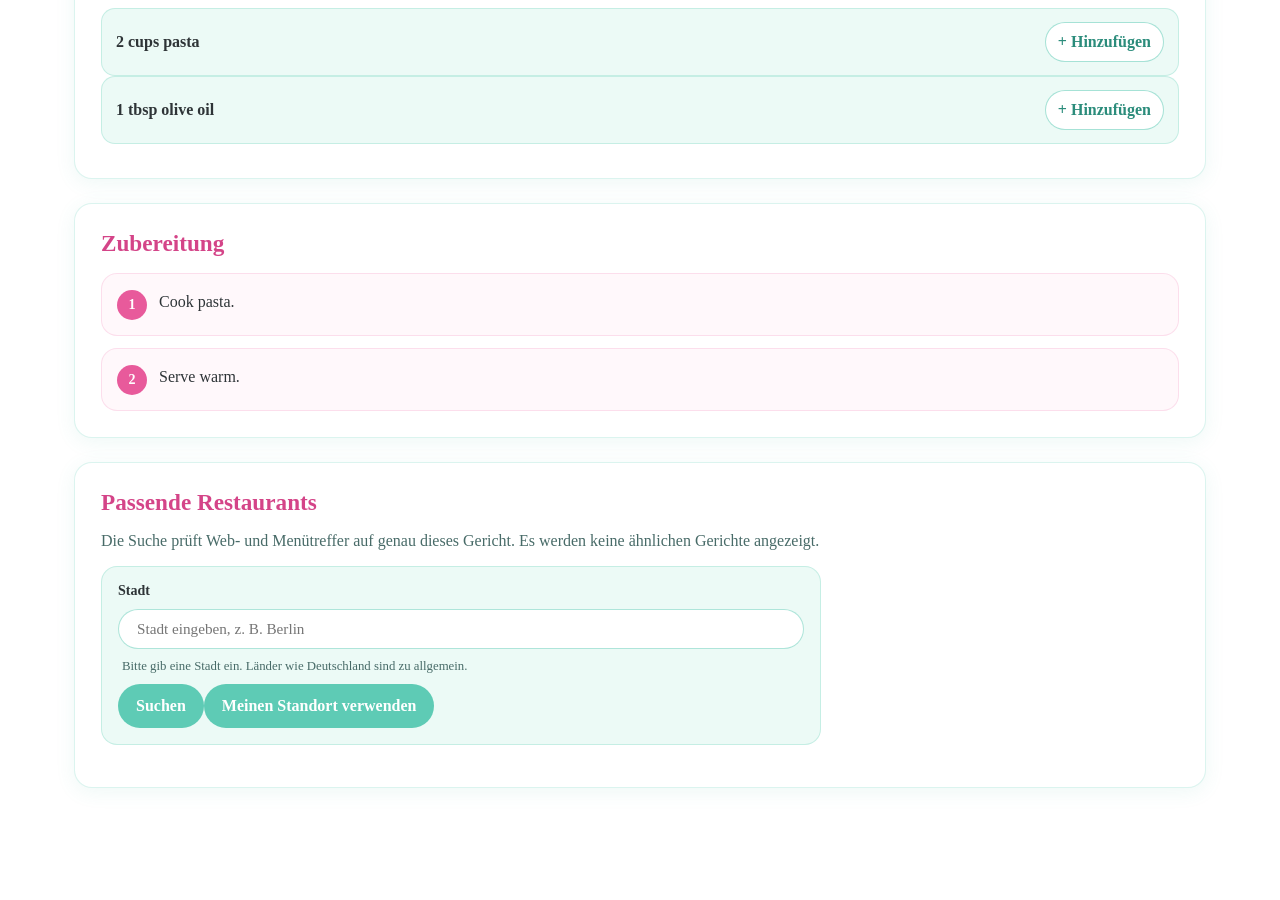
Scenario: RecipeDetailView › shows no-results message when status is no_results
(page scrolled)
In the field with class "location-input": {"x": 461, "y": 628} [118,608,804,648], type "Berlin"
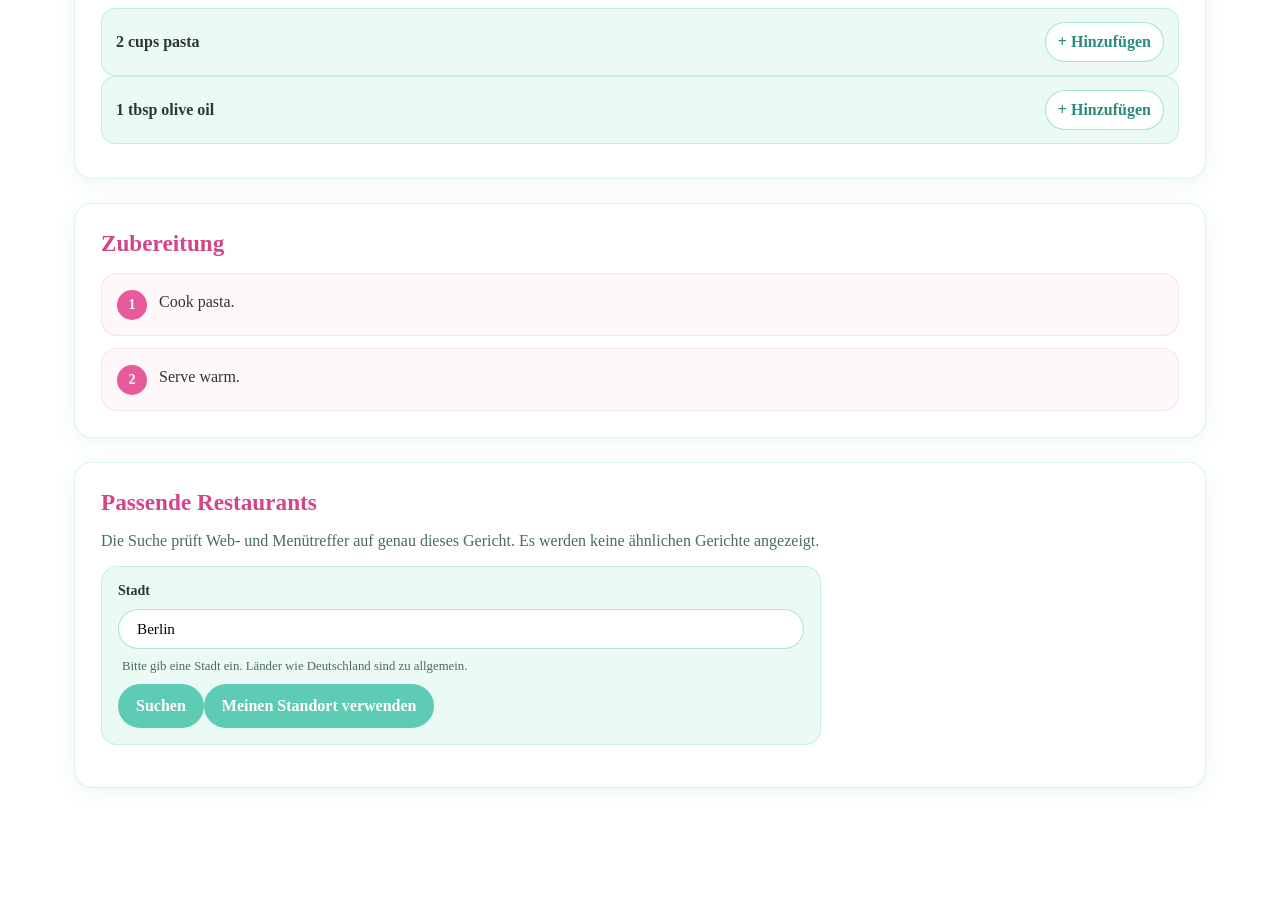
Click the button with class "restaurant-search-button": {"x": 161, "y": 706} [118,684,204,728]
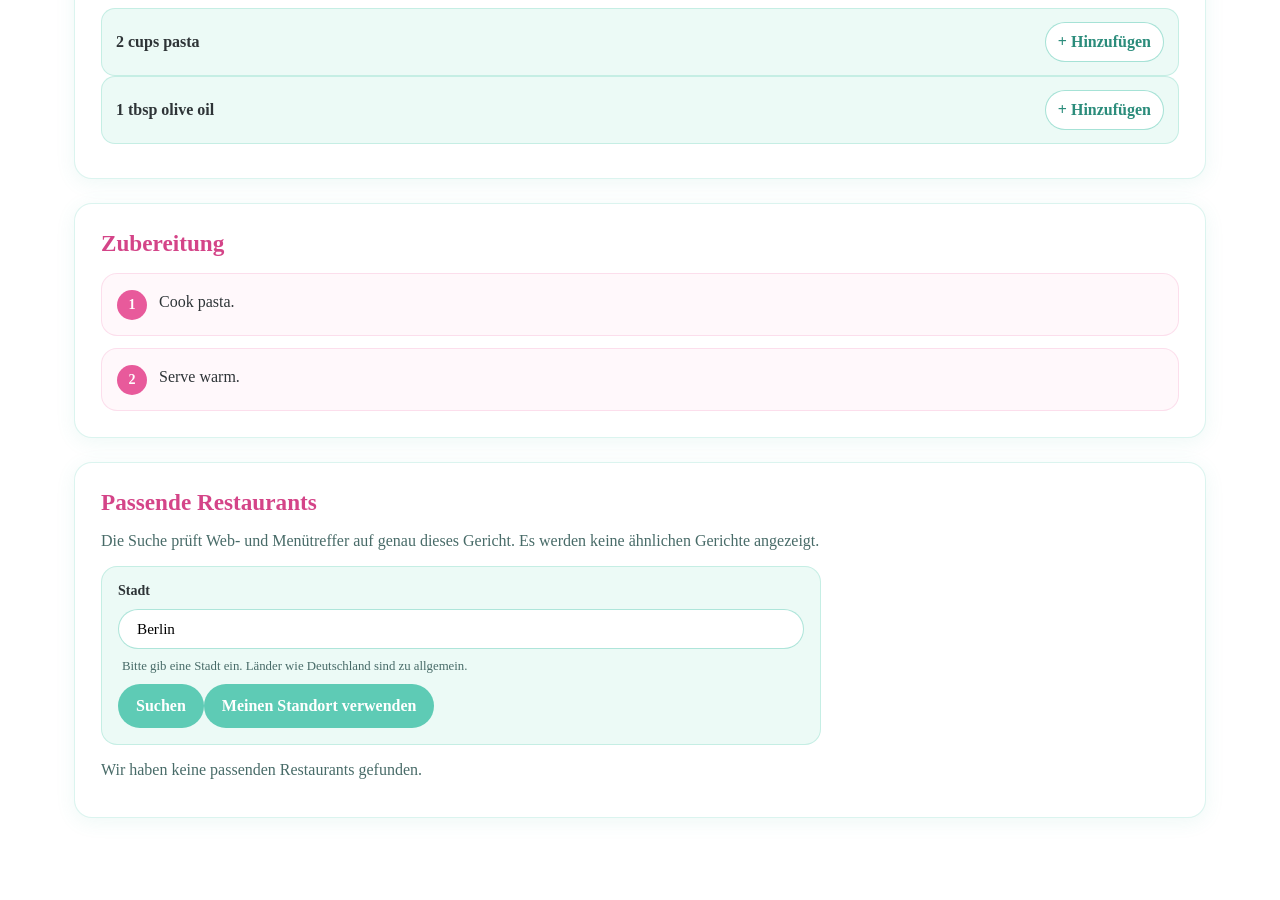
Expected: the text "Wir haben keine passenden Restaurants gefunden." is shown, [101,760,422,778]
